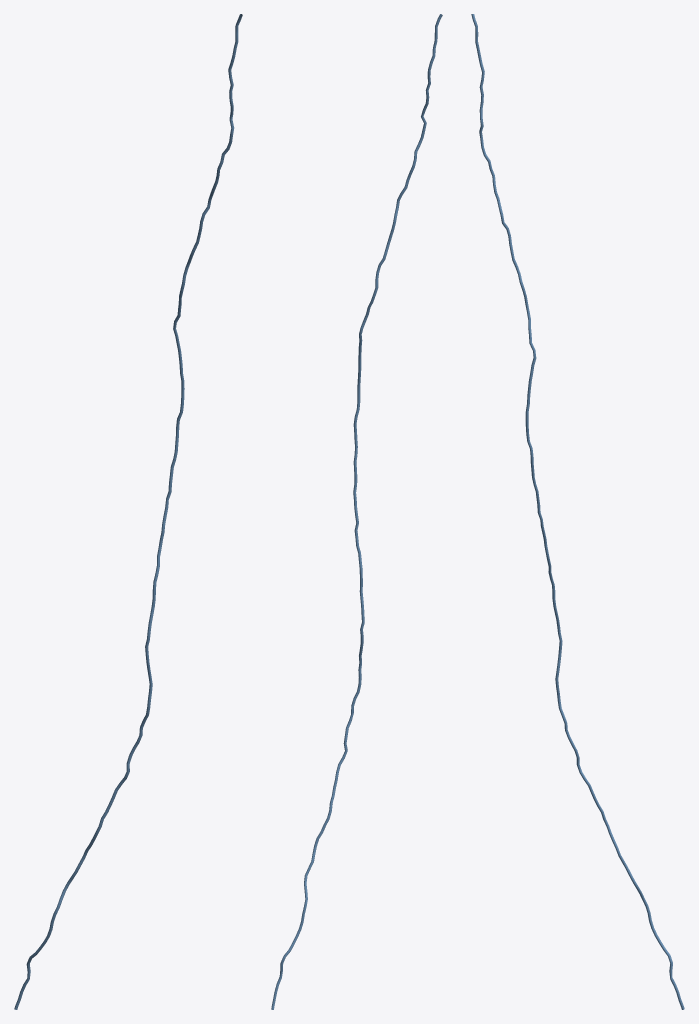
Rendered from sweep30.fbx.
3 views of the same model, side by side, from view 1: azimuth 90°, elevation 25°; view 2: azimuth 150°, elevation 25°; view 3: azimuth 270°, elevation 25° (orthographic). The views are drawn at different scales.
Parts seen in each view (by area): view 1: sweep30; view 2: sweep30; view 3: sweep30.
Boxes of the visible parts, x1,y1,x2,y2 form: sweep30: (14, 14, 242, 1009); sweep30: (271, 14, 442, 1009); sweep30: (471, 14, 684, 1009).
Bounding box in the file's own units: 0.5484 × 7.15 × 1.43.
